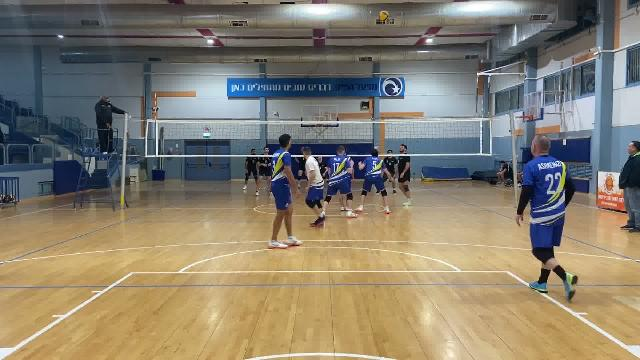ball: (377, 11, 390, 23)
